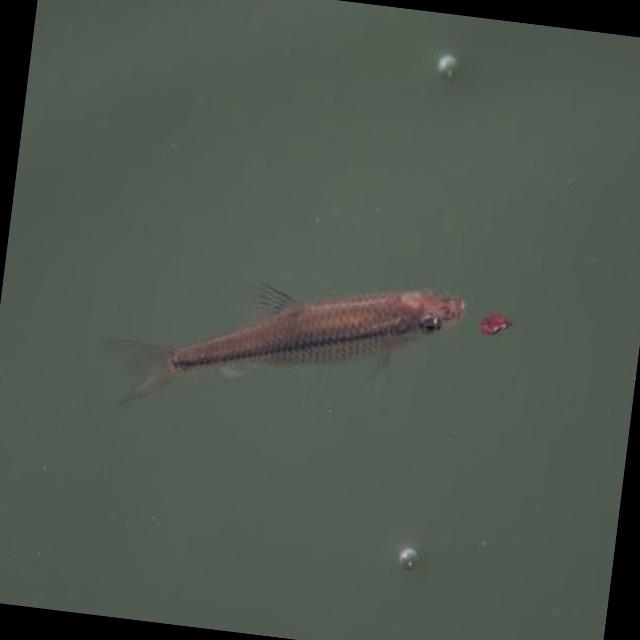Cakil Baligi: (89, 240, 471, 450)
